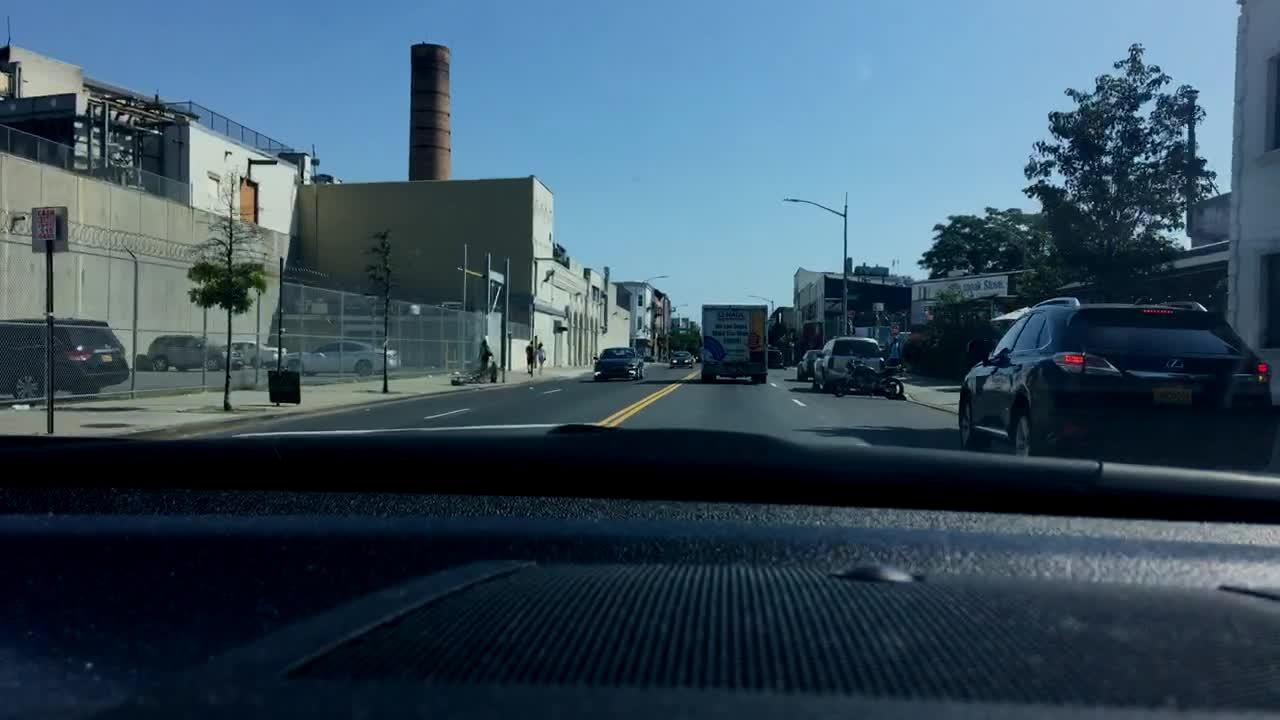lexus: (1162, 345, 1198, 377)
